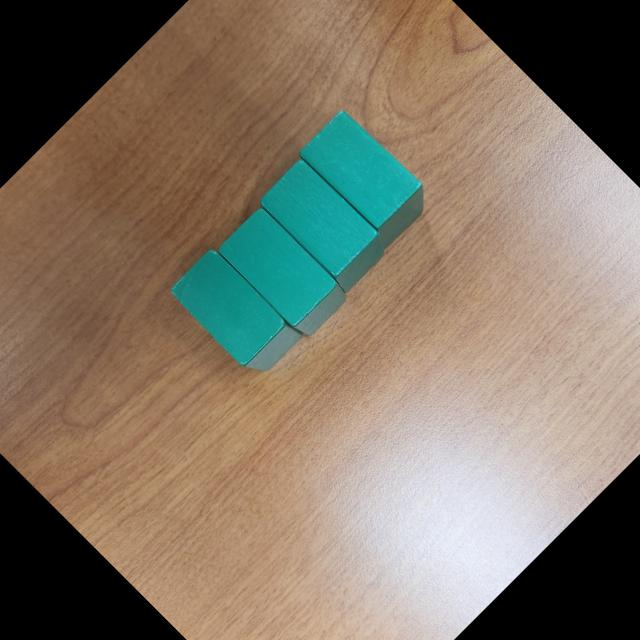green: (293, 106, 439, 252), (252, 152, 396, 296), (166, 243, 308, 385), (214, 201, 356, 343)
